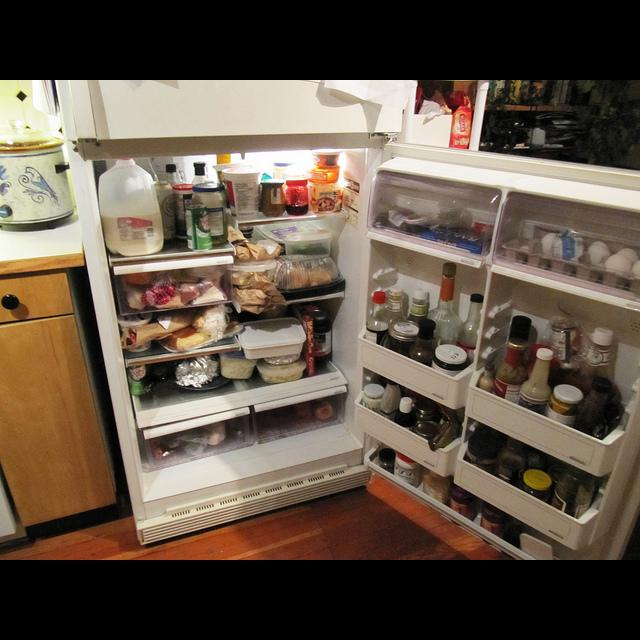Refrigerator: (54, 80, 639, 553)
